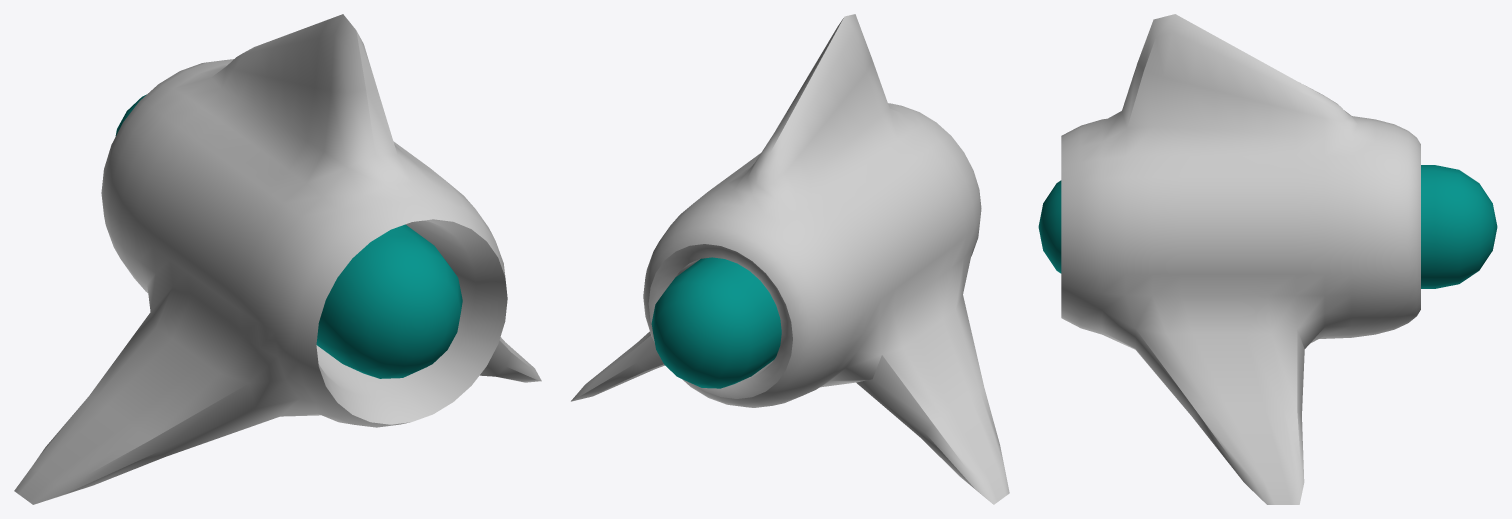
The model's file is Enemy.fbx.
3 views of the same model, side by side, from view 1: azimuth 30°, elevation 25°; view 2: azimuth 150°, elevation 25°; view 3: azimuth 270°, elevation 25° (orthographic). The views are drawn at different scales.
Visible parts, largest first — view 1: Capsule_2, Capsule; view 2: Capsule_2, Capsule; view 3: Capsule_2, Capsule.
Boxes of the visible parts, box(x1,y1,x2,y2) form: Capsule_2: box(14, 14, 541, 504); Capsule: box(115, 94, 462, 378); Capsule_2: box(571, 14, 1009, 504); Capsule: box(651, 257, 781, 388); Capsule_2: box(1061, 14, 1420, 504); Capsule: box(1038, 165, 1497, 288).
Bounding box in the file's own units: 211 × 187 × 200.
